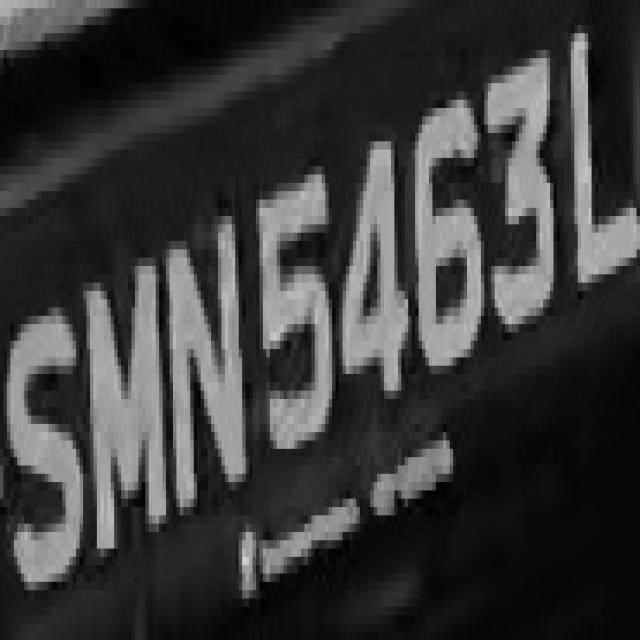3: (464, 25, 557, 341)
4: (318, 100, 419, 457)
5: (246, 166, 332, 457)
6: (398, 100, 484, 407)
L: (3, 0, 4, 4)
M: (83, 233, 166, 565)
N: (162, 166, 252, 524)
S: (0, 274, 86, 615)
